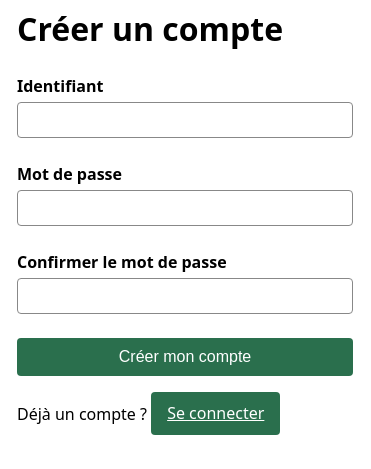
it: Inscription — confirmation du mot de passe › bloque la soumission si les deux mots de passe diffèrent
This screenshot has width=371, height=469.
Type "alice" into the field labelled "Identifiant" at (185, 120), box x1=17 y1=102 x2=353 y2=138
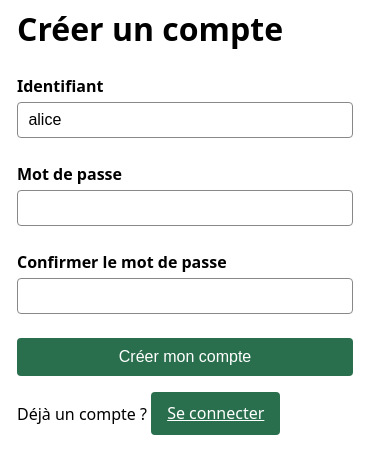
Type "un-mot-de-passe-solide" into the password field labelled "Mot de passe" at (185, 208), box x1=17 y1=190 x2=353 y2=226
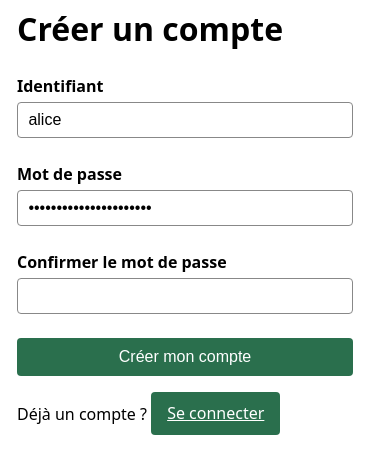
Type "un-mot-de-passe-different" into the password field labelled "Confirmer le mot de passe" at (185, 296), box x1=17 y1=278 x2=353 y2=314
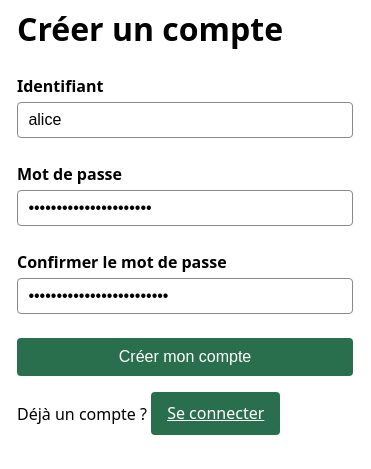
Click the button "Créer mon compte" at (185, 357), box x1=17 y1=338 x2=353 y2=376
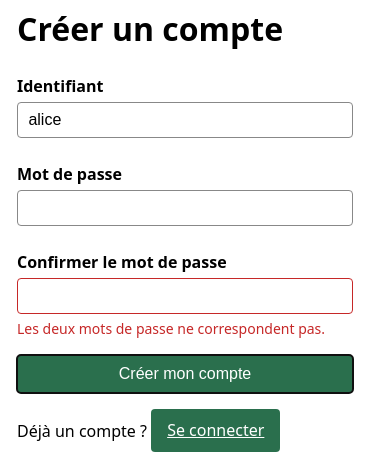
Check: the text "Les deux mots de passe ne correspondent pas." is shown, box x1=17 y1=318 x2=353 y2=339
